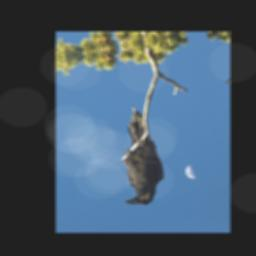Crow: (106, 102, 170, 209)
